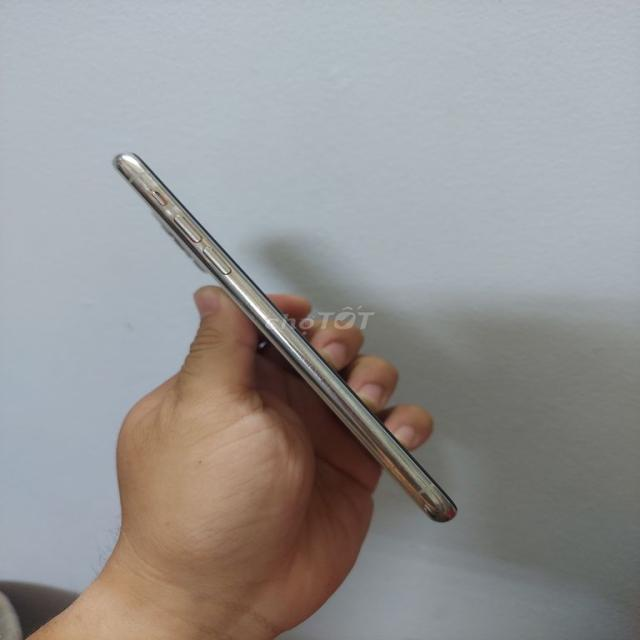gen_11: (110, 143, 472, 522)
